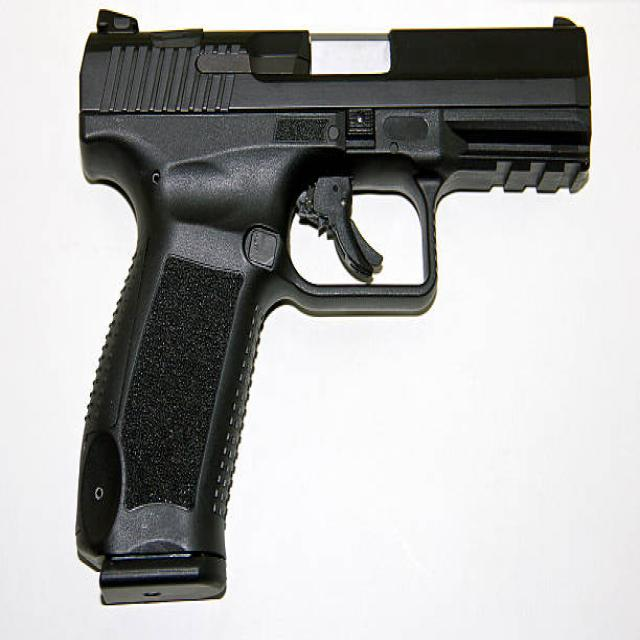pistol: (71, 12, 595, 615)
